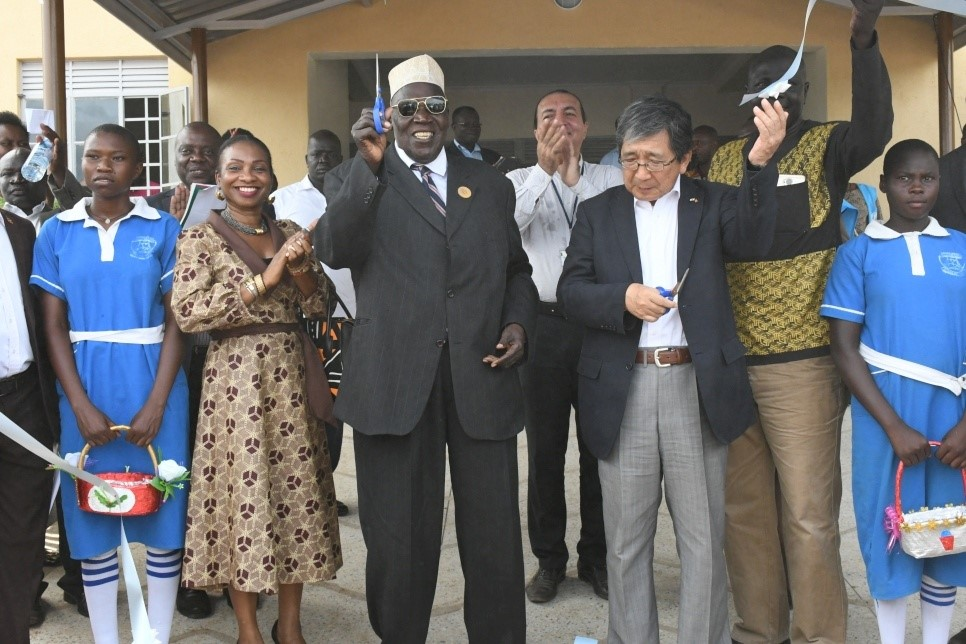face_no_mask: (874, 139, 942, 216), (389, 80, 452, 161), (746, 45, 810, 119), (81, 125, 141, 195), (220, 135, 276, 205), (533, 88, 586, 156), (172, 120, 219, 184), (1, 150, 45, 206), (303, 127, 341, 178), (1, 110, 29, 159), (689, 128, 722, 167)
